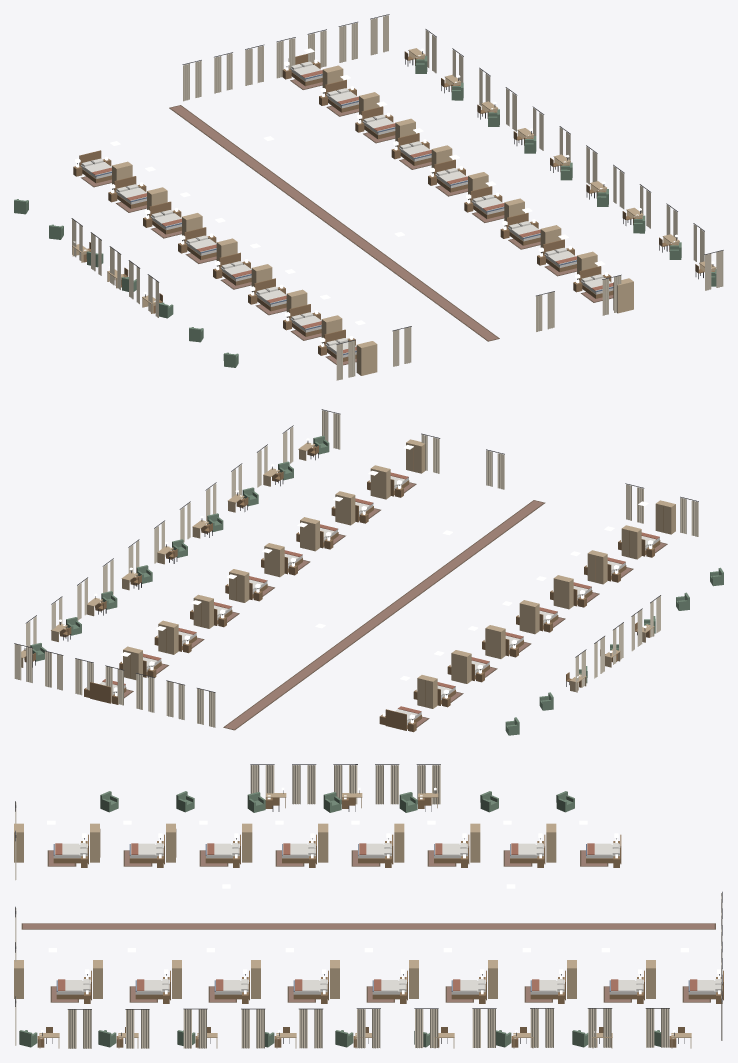
Rendered from fine-s4.glb.
3 renders of one model, top to bottom at view 1: azimuth 30°, elevation 25°; view 2: azimuth 150°, elevation 25°; view 3: azimuth 270°, elevation 25°, orthographic. The views are drawn at different scales.
Parts seen in each view (by area): view 1: soft-s4, dresser.058; view 2: soft-s4, dresser.054, dresser.057, dresser.055, dresser.058, dresser.051, dresser.053, dresser.056, dresser.052, dresser.062, dresser.063, dresser.065 (+6 smaller); view 3: soft-s4.
Boxes of the visible parts, box(x1,y1,x2,y2) form: soft-s4: box(71, 14, 723, 380); dresser.058: box(356, 341, 377, 375); soft-s4: box(14, 409, 698, 730); dresser.054: box(519, 600, 539, 634); dresser.057: box(621, 525, 641, 559); dresser.055: box(553, 575, 573, 609); dresser.058: box(655, 500, 675, 534); dresser.051: box(417, 675, 437, 708); dresser.053: box(485, 625, 505, 658); dresser.056: box(587, 550, 607, 584); dresser.052: box(451, 650, 471, 683); dresser.062: box(229, 569, 249, 602); dresser.063: box(264, 543, 284, 577); dresser.065: box(335, 491, 355, 525); soft-s4: box(15, 764, 722, 1048).
Bounding box in the file's own units: 34.53 × 2.66 × 42.24.
